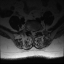CCS_normal: (32, 29, 34, 37)
LFS_stenosis: (36, 28, 38, 33)
LLS_normal: (34, 29, 36, 36)
RFS_severe_stenosis: (28, 27, 30, 33)
RLS_normal: (30, 29, 32, 36)
